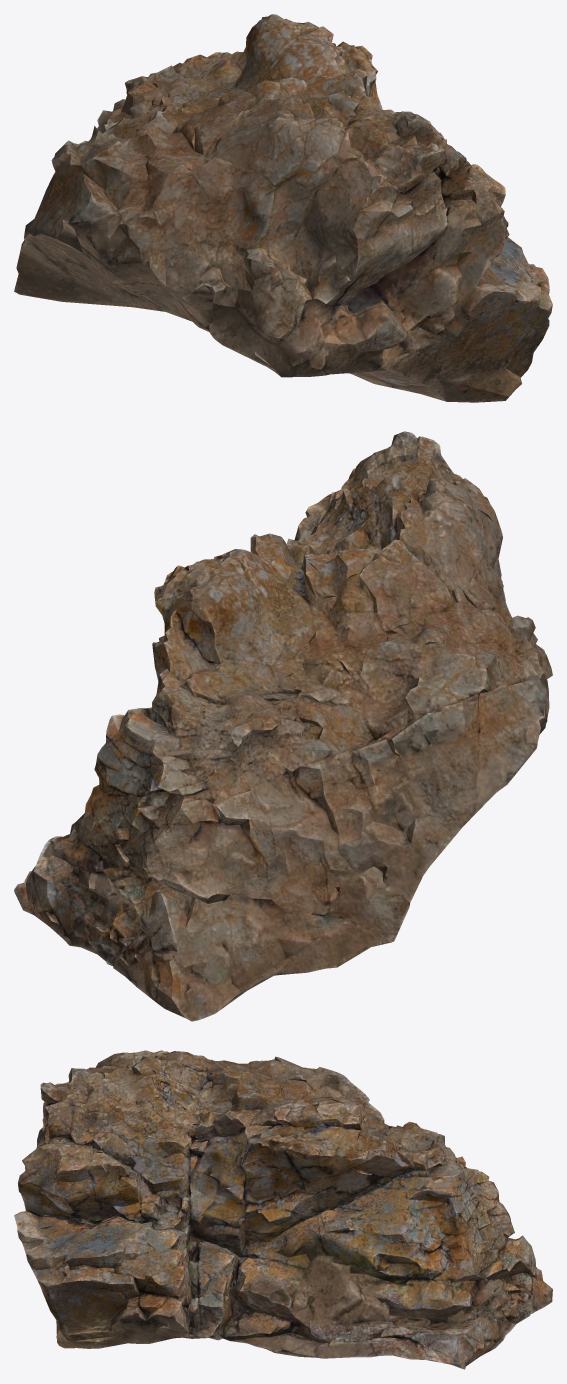
Rendered from road_boulder.glb.
3 renders of one model, top to bottom at view 1: azimuth 30°, elevation 25°; view 2: azimuth 150°, elevation 25°; view 3: azimuth 270°, elevation 25°, orthographic. The views are drawn at different scales.
Visible parts, largest first — view 1: road_boulder; view 2: road_boulder; view 3: road_boulder.
Boxes of the visible parts, bbox=[...] form: road_boulder: bbox=[14, 14, 552, 402]; road_boulder: bbox=[14, 431, 552, 1021]; road_boulder: bbox=[14, 1050, 552, 1369].
Size of the model in its own units: 1.27 by 1 by 1.82.
Materials: 1 (1 with a texture image).
